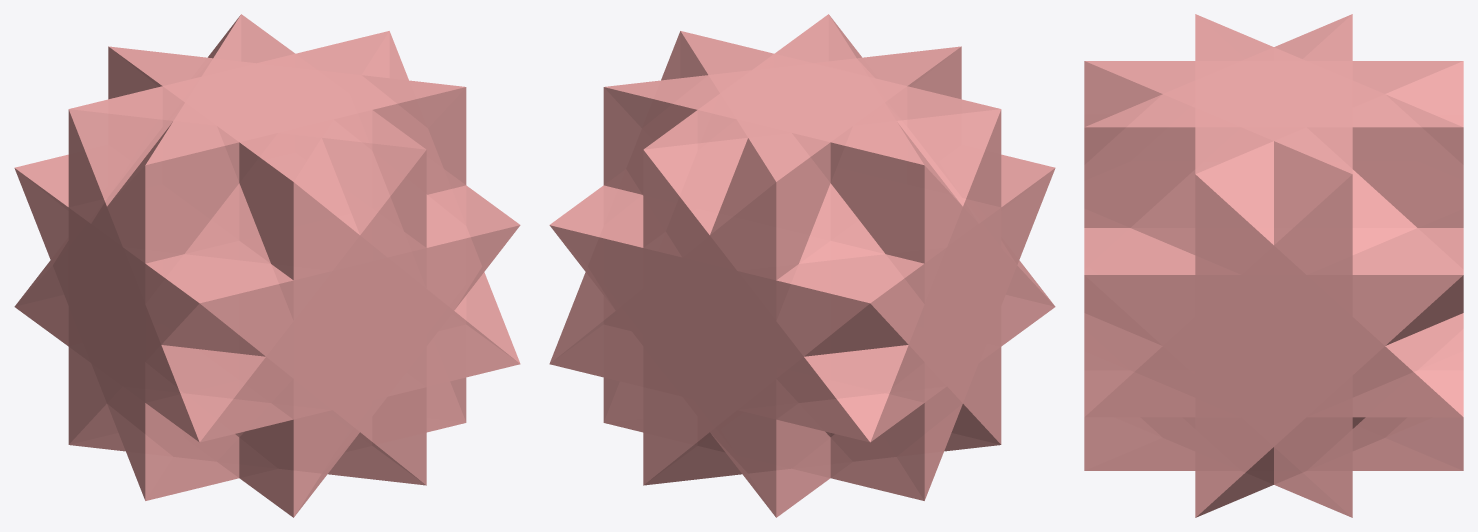
Rendered from GreatCubicuboctahedron.obj.
The picture shows the model from 3 angles, left to right: view 1: azimuth 30°, elevation 25°; view 2: azimuth 150°, elevation 25°; view 3: azimuth 270°, elevation 25°; orthographic projection. The views are drawn at different scales.
Bounding box in the file's own units: 1 × 1 × 1.
